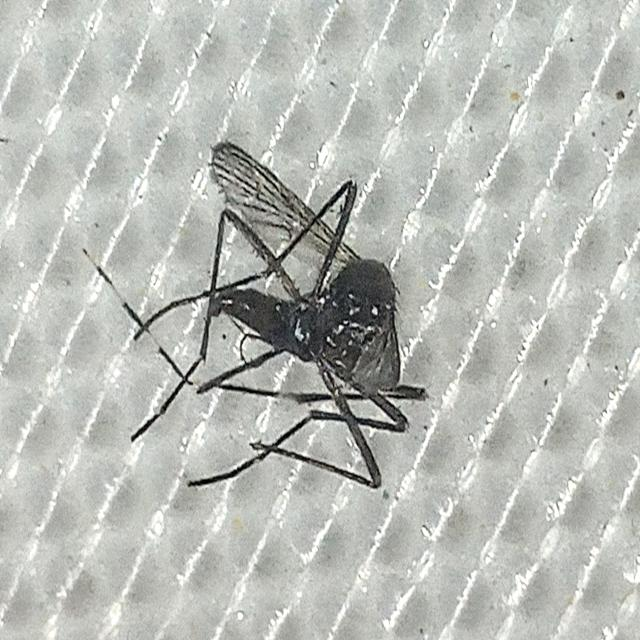albopictus: (72, 91, 436, 520)
